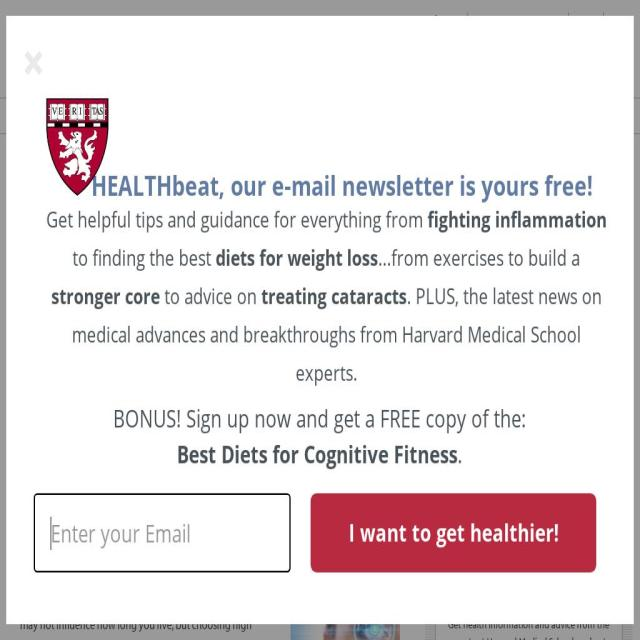button: (435, 148, 623, 314), (33, 168, 199, 350), (412, 168, 578, 350), (20, 17, 233, 89), (290, 426, 400, 526), (290, 599, 400, 640), (448, 433, 610, 455), (448, 454, 610, 476), (448, 475, 610, 497), (448, 371, 610, 392), (448, 392, 610, 413), (448, 413, 610, 434), (448, 496, 610, 517), (234, 98, 297, 134), (296, 98, 359, 134), (358, 98, 421, 134), (49, 98, 111, 134), (111, 98, 173, 134), (173, 98, 235, 134), (420, 98, 482, 134), (482, 98, 544, 134), (544, 98, 606, 134), (350, 53, 424, 81), (471, 12, 566, 30), (602, 38, 633, 80), (434, 12, 465, 30), (572, 12, 600, 30), (606, 12, 632, 30), (170, 357, 177, 371), (243, 357, 250, 371)
field: (445, 38, 603, 80)
heading: (20, 424, 258, 458), (290, 527, 400, 585), (209, 166, 375, 204), (26, 388, 259, 410), (20, 571, 234, 590), (448, 331, 616, 355), (587, 165, 640, 204), (296, 391, 384, 407)
image: (435, 151, 623, 640), (42, 168, 190, 350), (20, 17, 233, 84), (290, 427, 400, 528), (412, 168, 578, 208), (290, 600, 400, 640), (582, 561, 609, 598), (184, 358, 191, 368), (199, 358, 206, 368), (214, 358, 221, 368), (229, 358, 236, 368)
link: (448, 498, 563, 514), (209, 205, 276, 218), (587, 204, 640, 218), (196, 523, 226, 540), (209, 288, 238, 305), (186, 636, 216, 640)
text: (20, 463, 259, 540), (20, 596, 254, 640), (209, 228, 383, 285), (448, 616, 610, 640), (587, 228, 640, 284), (54, 102, 106, 128), (116, 102, 168, 128), (240, 102, 292, 128), (364, 102, 416, 128), (426, 102, 478, 128), (488, 102, 540, 128), (448, 592, 531, 608), (448, 560, 510, 577), (448, 574, 488, 594), (554, 109, 597, 123), (488, 574, 512, 594), (312, 109, 344, 123), (0, 228, 6, 285), (194, 109, 214, 123), (444, 16, 464, 26)
